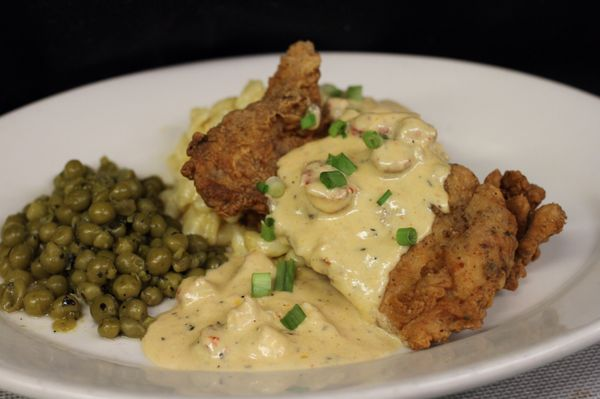curry: (1, 29, 597, 392)
